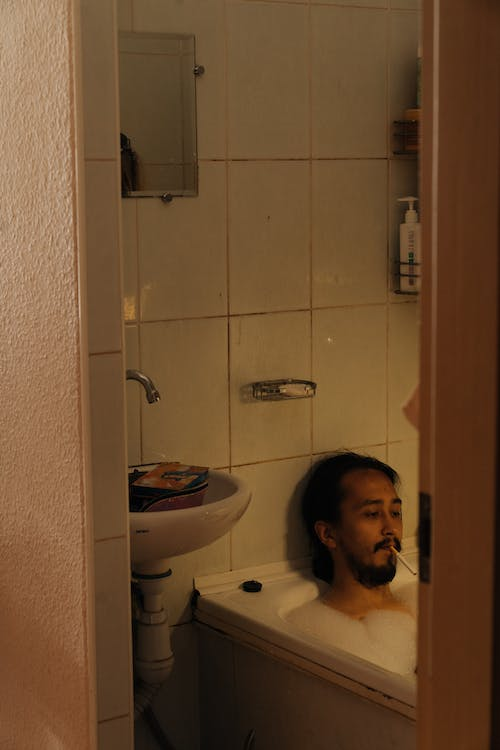cigarette: (385, 542, 418, 578)
